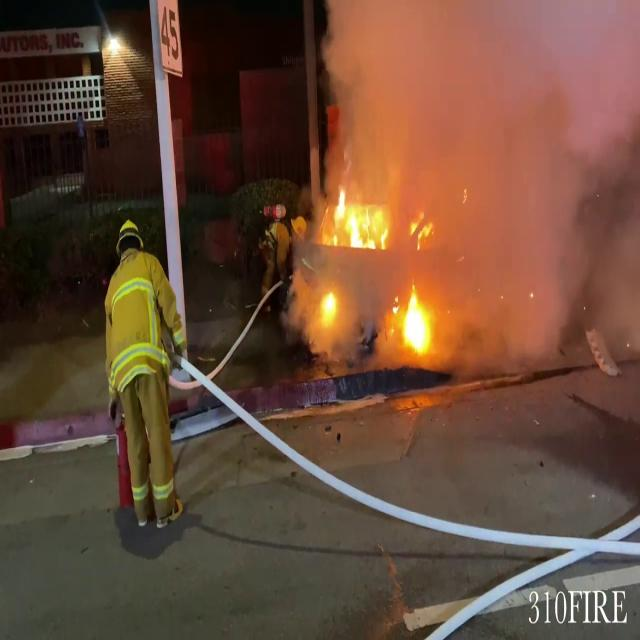Fire: (322, 182, 388, 252), (393, 284, 437, 358)
Smoke: (314, 0, 640, 396)
